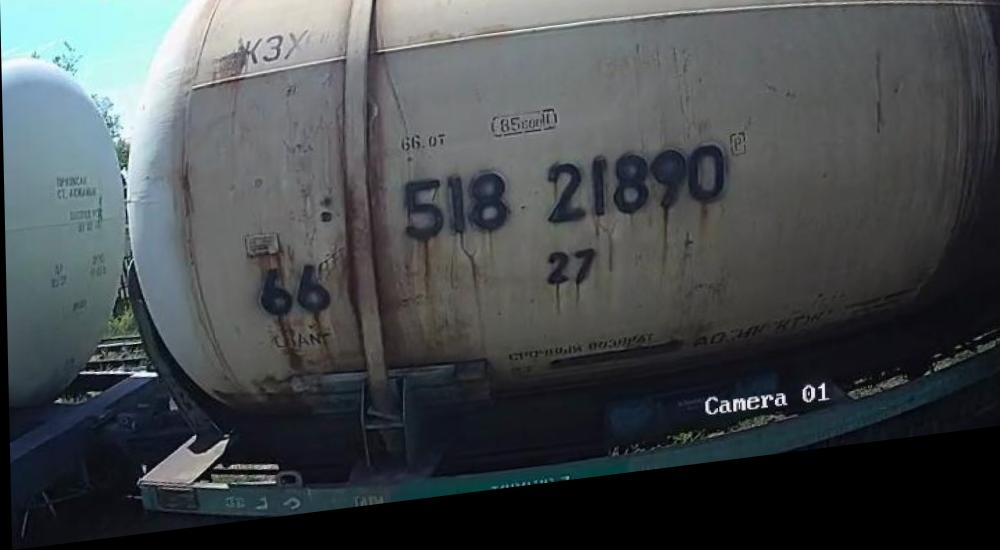Wagon-number: (393, 153, 729, 261)
